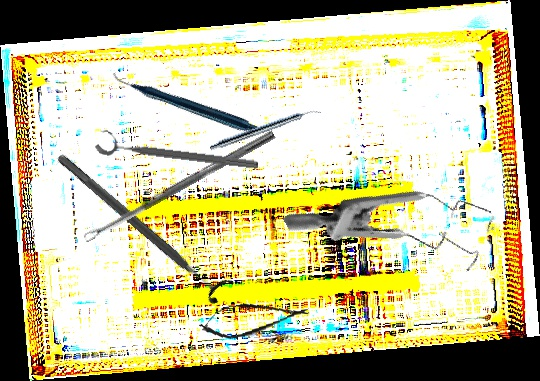Fixation Ring: (48, 143, 236, 308), (93, 127, 261, 174)
Handpiece: (111, 21, 263, 182), (208, 104, 322, 154)
Micro Scissor: (197, 293, 312, 344)
Speculum: (282, 129, 511, 337)
Surgical Spoon: (82, 129, 276, 243)
